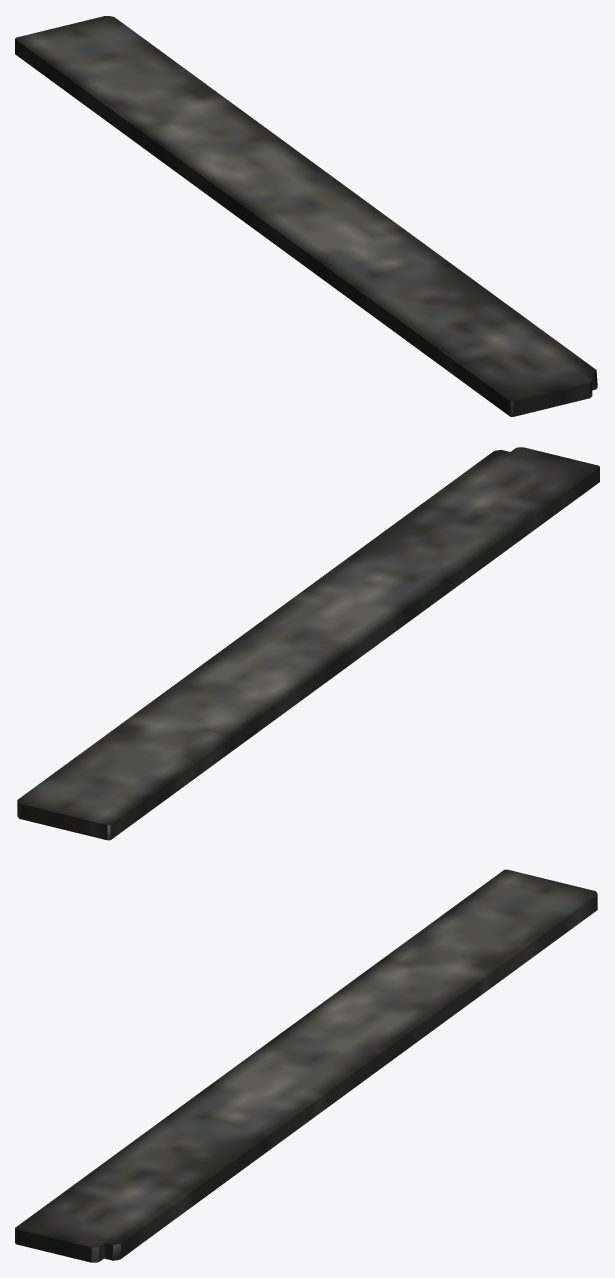
The model's file is SM_EC_Fence_Part_38.fbx.
3 views of the same model, one above another, from view 1: azimuth 30°, elevation 25°; view 2: azimuth 150°, elevation 25°; view 3: azimuth 330°, elevation 25° (orthographic).
Visible parts, largest first — view 1: SM_EC_Fence_Part_38; view 2: SM_EC_Fence_Part_38; view 3: SM_EC_Fence_Part_38.
Boxes of the visible parts, x1,y1,x2,y2 form: SM_EC_Fence_Part_38: (15, 16, 597, 416); SM_EC_Fence_Part_38: (17, 447, 599, 840); SM_EC_Fence_Part_38: (15, 869, 597, 1262).
Size of the model in its own units: 0.1202 by 1.07 by 0.0181.
